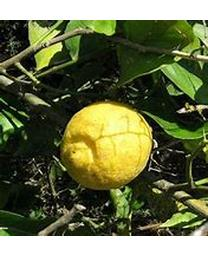lemon: (60, 102, 153, 190)
